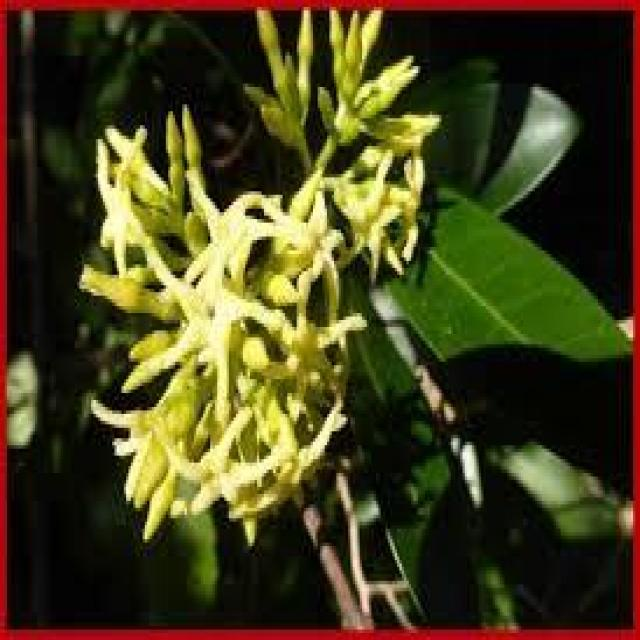organic waste: (59, 111, 358, 529)
